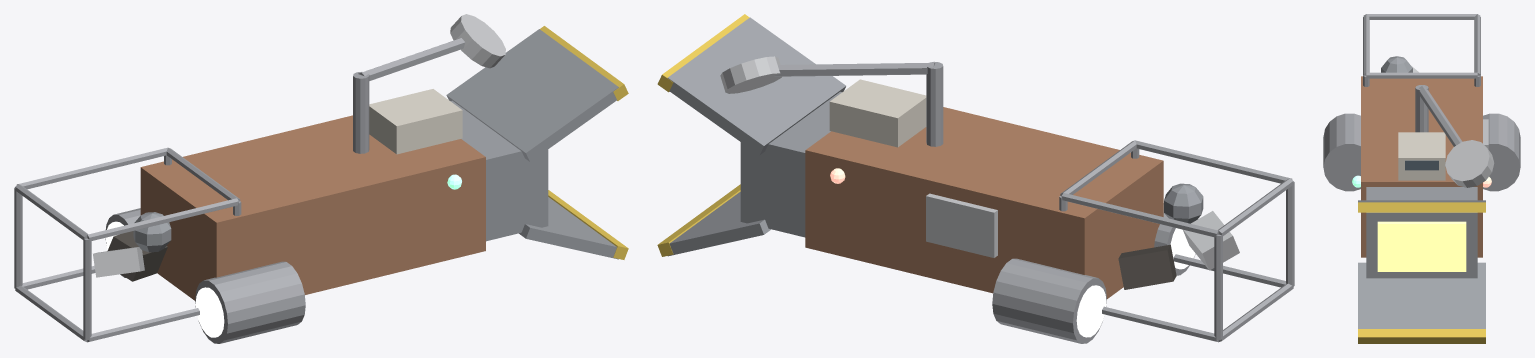
File: scrap_sweeper.glb
3 renders of one model, left to right at view 1: azimuth 30°, elevation 25°; view 2: azimuth 150°, elevation 25°; view 3: azimuth 270°, elevation 25°, orthographic. The views are drawn at different scales.
Visible parts, largest first — view 1: swp_hull, swp_lip_top, swp_throat, swp_drive_s_shroud, swp_cab_pod, swp_lip_bot, swp_magnet, swp_boom_mast, swp_junk1, swp_cage_x_-2.0+1.6, swp_boom_jib, swp_cage_x_+2.0+1.6 (+12 smaller); view 2: swp_hull, swp_lip_top, swp_throat, swp_drive_p_shroud, swp_cab_pod, swp_patch, swp_lip_bot, swp_junk0, swp_boom_jib, swp_magnet, swp_boom_mast, swp_junk1 (+14 smaller); view 3: swp_hull, swp_lip_bot, swp_throat, swp_throat_glow, swp_drive_s_shroud, swp_drive_p_shroud, swp_cab_pod, swp_lip_bot_hz, swp_magnet, swp_lip_top_hz, swp_cage_y_-4.7+1.6, swp_boom_jib (+8 smaller).
Boxes of the visible parts, <box> form: swp_hull: <box>140,115,485,300</box>; swp_lip_top: <box>446,29,618,161</box>; swp_throat: <box>450,100,548,241</box>; swp_drive_s_shroud: <box>195,261,305,343</box>; swp_cab_pod: <box>369,89,462,154</box>; swp_lip_bot: <box>519,197,618,259</box>; swp_magnet: <box>450,14,505,68</box>; swp_boom_mast: <box>353,72,369,153</box>; swp_junk1: <box>93,247,144,277</box>; swp_cage_x_-2.0+1.6: <box>87,198,238,241</box>; swp_boom_jib: <box>358,38,465,80</box>; swp_cage_x_+2.0+1.6: <box>17,147,167,189</box>; swp_hull: <box>805,107,1163,298</box>; swp_lip_top: <box>667,17,845,155</box>; swp_throat: <box>740,91,841,237</box>; swp_drive_p_shroud: <box>992,258,1106,343</box>; swp_cab_pod: <box>829,79,926,147</box>; swp_patch: <box>926,193,997,257</box>; swp_lip_bot: <box>668,192,770,256</box>; swp_junk0: <box>1118,244,1176,289</box>; swp_boom_jib: <box>774,62,935,76</box>; swp_magnet: <box>720,56,781,93</box>; swp_boom_mast: <box>926,61,943,146</box>; swp_junk1: <box>1183,211,1239,270</box>; swp_hull: <box>1361,76,1482,257</box>; swp_lip_bot: <box>1358,262,1485,328</box>; swp_throat: <box>1366,187,1477,278</box>; swp_throat_glow: <box>1377,221,1466,271</box>; swp_drive_s_shroud: <box>1323,113,1360,191</box>; swp_drive_p_shroud: <box>1483,113,1520,191</box>; swp_cab_pod: <box>1398,132,1445,180</box>; swp_lip_bot_hz: <box>1358,329,1485,343</box>; swp_magnet: <box>1445,140,1494,187</box>; swp_lip_top_hz: <box>1358,202,1485,212</box>; swp_cage_y_-4.7+1.6: <box>1366,72,1477,78</box>; swp_boom_jib: <box>1419,86,1462,146</box>.
Bounding box in the file's own units: 18.01 × 6.79 × 7.1.
